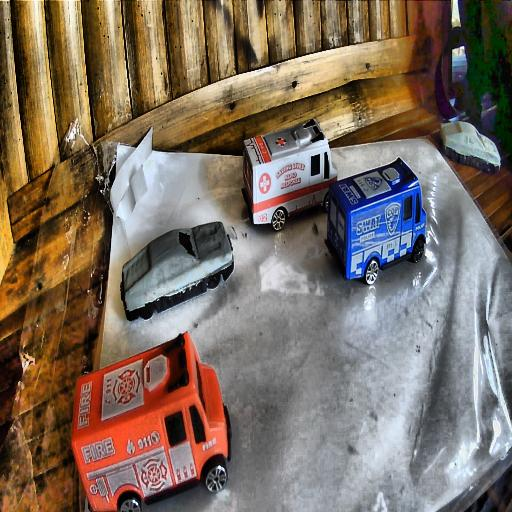ambulance: (240, 118, 330, 232)
fire_truck: (70, 330, 234, 510)
normal_car: (120, 222, 235, 324), (439, 118, 503, 174)
police car: (321, 156, 423, 286)
